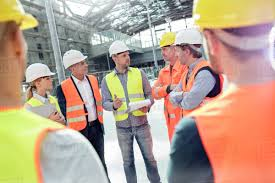helmet: (199, 1, 272, 31), (59, 48, 89, 66), (29, 63, 55, 80), (178, 30, 200, 44), (110, 41, 131, 53), (159, 31, 174, 46)
vest: (202, 100, 273, 183), (1, 106, 57, 183), (64, 81, 105, 126), (183, 67, 222, 112), (108, 73, 144, 115)
